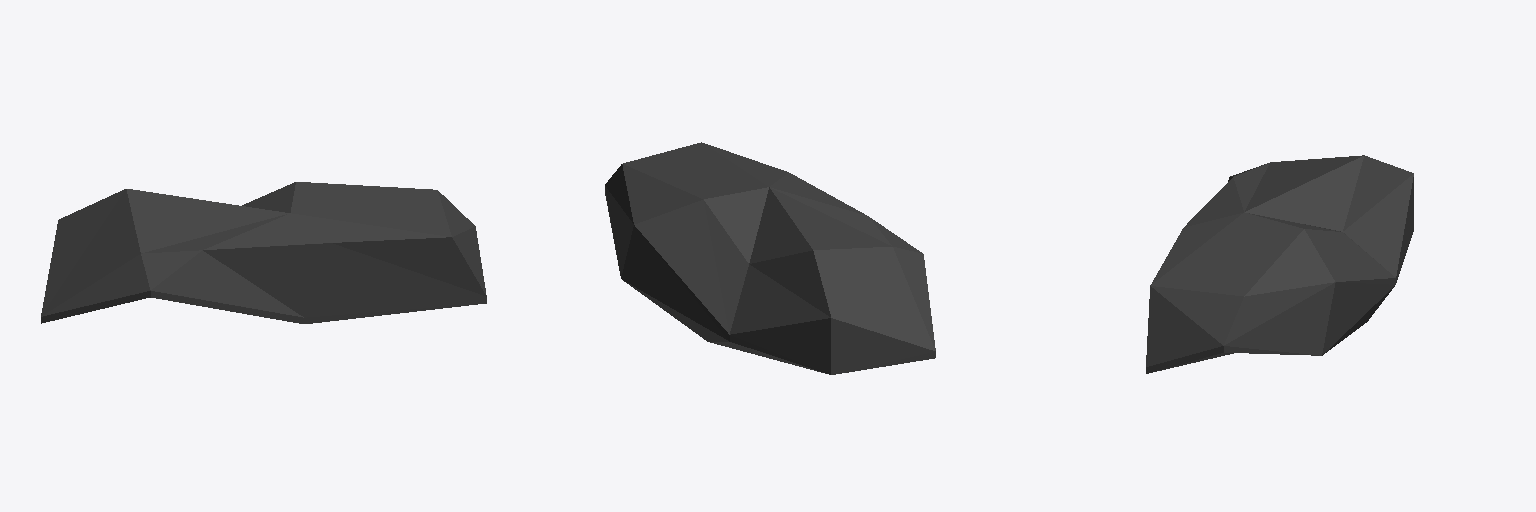
Rendered from small_rock.obj.
The picture shows the model from 3 angles: view 1: azimuth 30°, elevation 25°; view 2: azimuth 150°, elevation 25°; view 3: azimuth 270°, elevation 25°; orthographic projection.
Visible parts, largest first — view 1: Small_Rock_Mesh.012; view 2: Small_Rock_Mesh.012; view 3: Small_Rock_Mesh.012.
Part boxes in pixels (x1,y1,x2,y2): Small_Rock_Mesh.012: (41, 182, 486, 323); Small_Rock_Mesh.012: (605, 142, 935, 374); Small_Rock_Mesh.012: (1146, 155, 1413, 373).
Size of the model in its own units: 28.67 by 8.29 by 17.4.